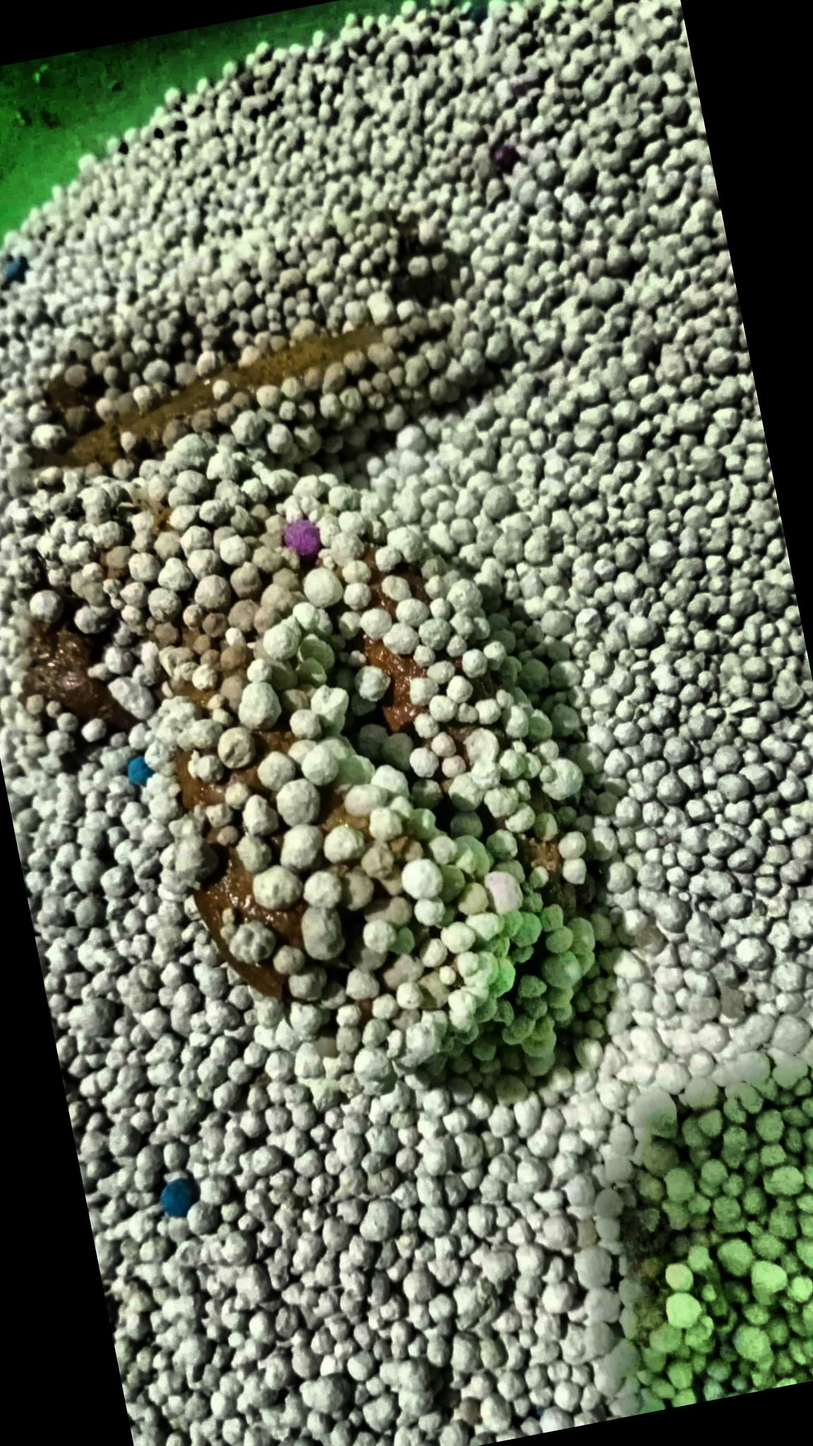poop: (23, 277, 531, 1060)
